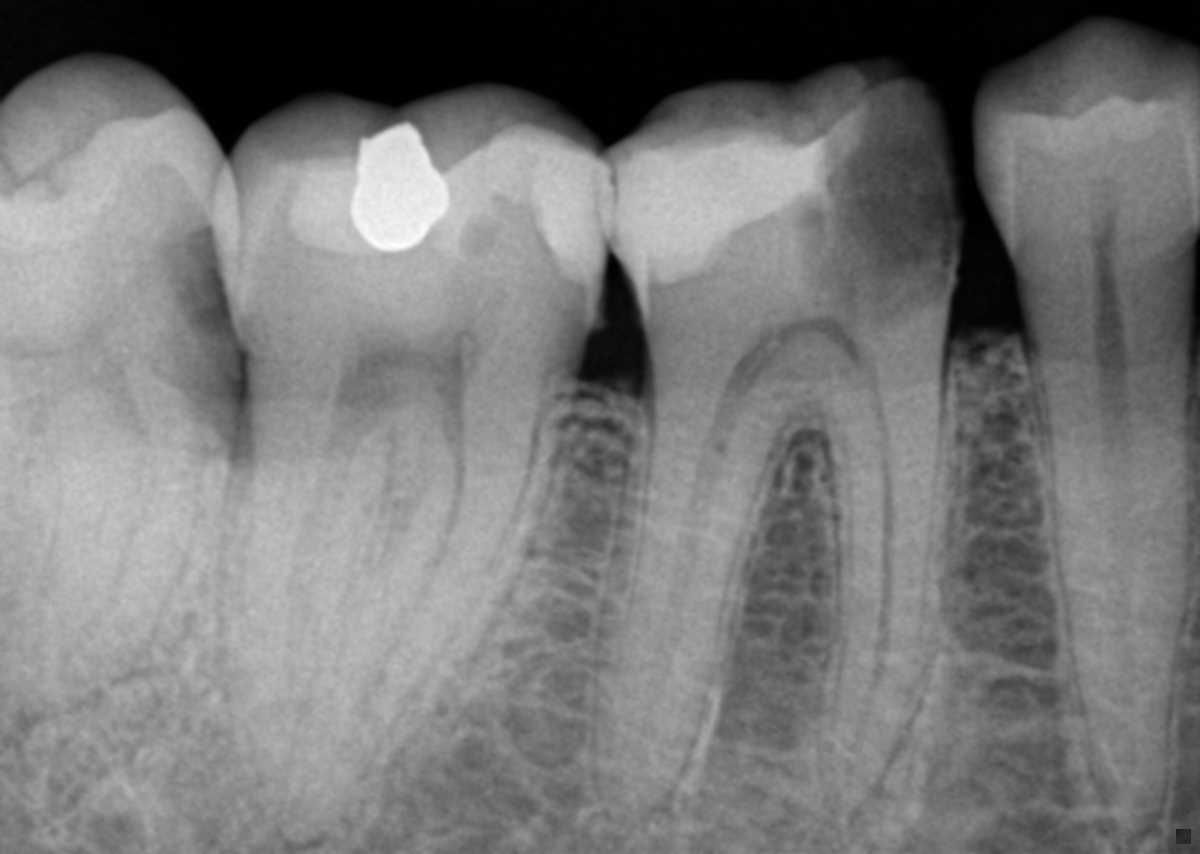Distal Canal: (281, 406, 373, 769), (634, 419, 728, 772)
Distal Root: (588, 416, 782, 838), (214, 377, 400, 807)
Main Canal: (1096, 310, 1140, 682)
Main Root: (1024, 326, 1193, 841)
Mesial Canal: (325, 427, 467, 785), (57, 403, 151, 674), (845, 396, 892, 791)
Mesial Root: (283, 413, 539, 847), (6, 398, 232, 711), (825, 347, 946, 817)
decay: (800, 97, 955, 317), (151, 222, 244, 447)
